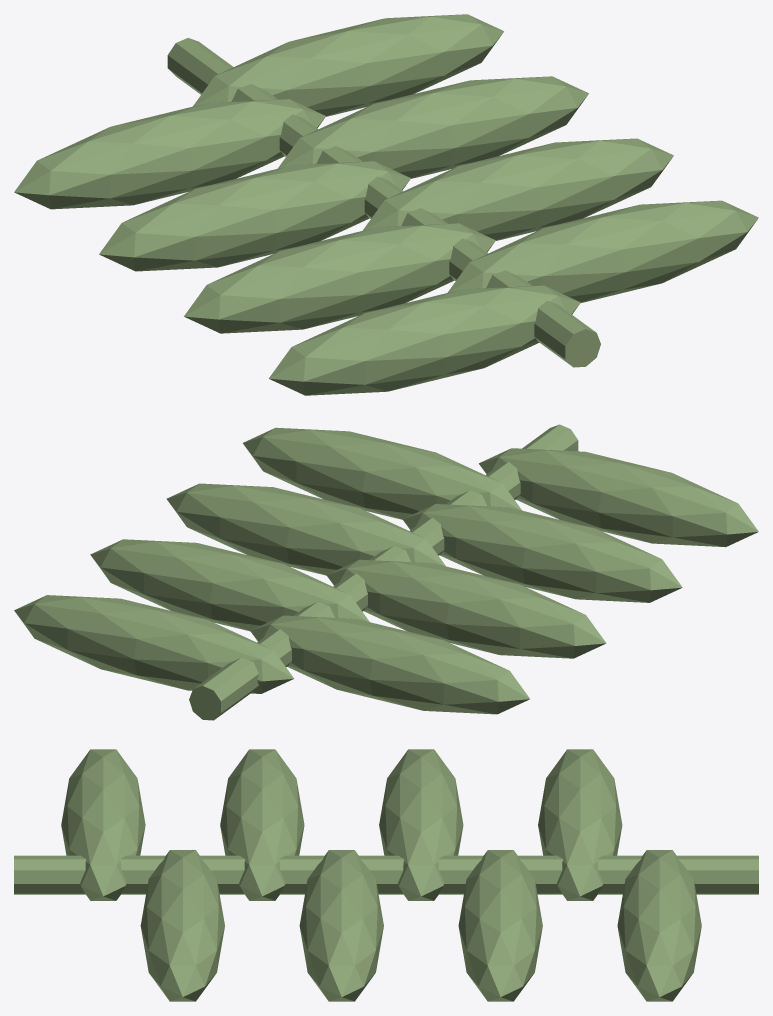
Rendered from kelp.glb.
3 renders of one model, top to bottom at view 1: azimuth 30°, elevation 25°; view 2: azimuth 150°, elevation 25°; view 3: azimuth 270°, elevation 25°, orthographic. The views are drawn at different scales.
Parts seen in each view (by area): view 1: world; view 2: world; view 3: world.
Boxes of the visible parts, x1,y1,x2,y2 form: world: [14, 14, 758, 395]; world: [14, 424, 758, 720]; world: [14, 749, 758, 1001].
Bounding box in the file's own units: 1.16 × 0.16 × 1.5.
